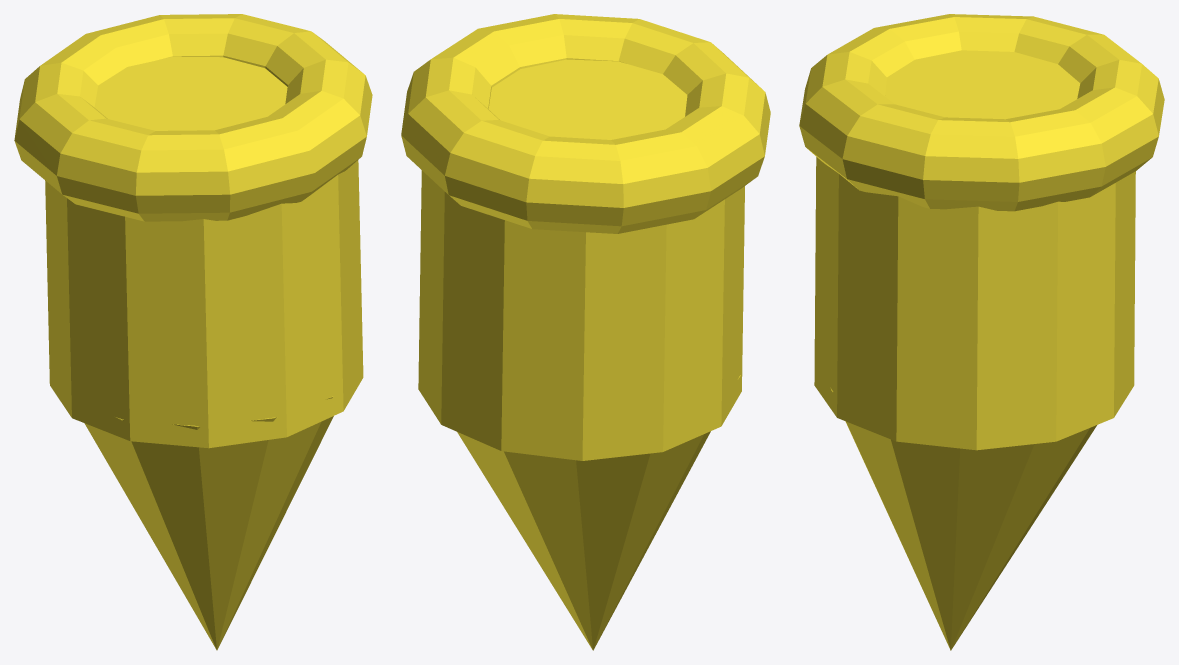
File: model-triangulated.obj
3 renders of one model, left to right at view 1: azimuth 30°, elevation 25°; view 2: azimuth 150°, elevation 25°; view 3: azimuth 270°, elevation 25°, orthographic. The views are drawn at different scales.
Parts seen in each view (by area): view 1: group578976136, group269620274; view 2: group578976136, group269620274; view 3: group578976136, group269620274.
Boxes of the visible parts, box(x1,y1,x2,y2) form: group578976136: box(45, 56, 363, 650); group269620274: box(14, 14, 372, 221); group578976136: box(418, 59, 744, 650); group269620274: box(401, 14, 770, 233); group578976136: box(814, 50, 1135, 650); group269620274: box(799, 14, 1164, 211).
Size of the model in its own units: 0.0685 by 0.1205 by 0.0686.
